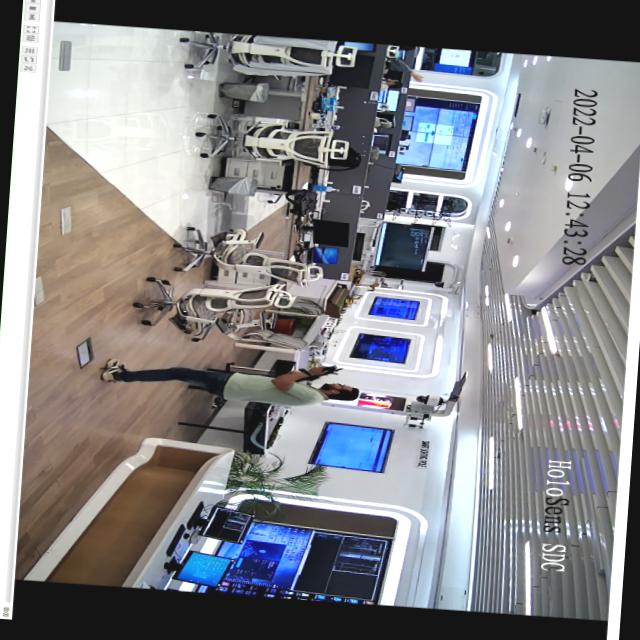long weapon: (280, 358, 350, 388)
